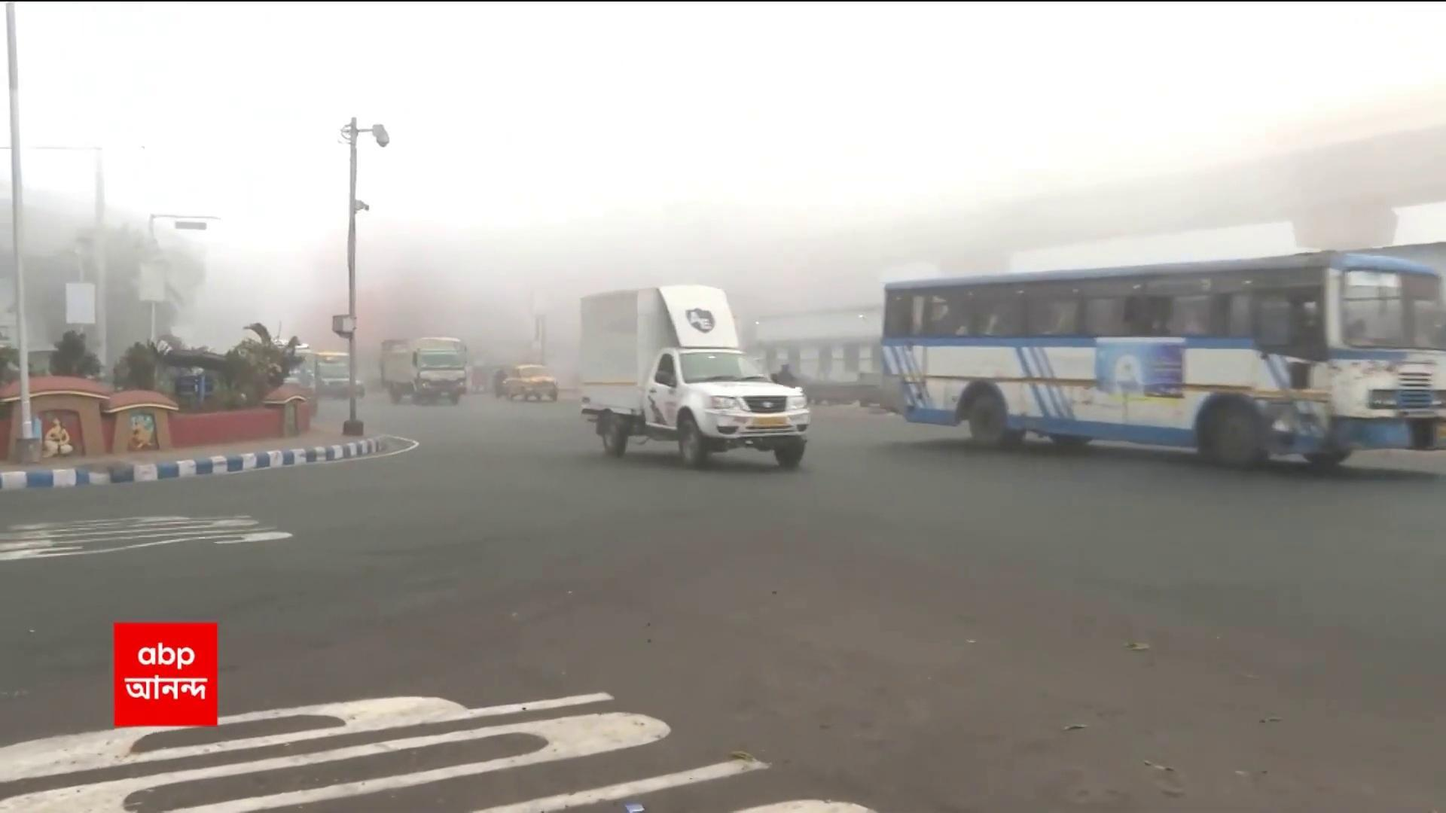Bus: (876, 250, 1446, 466)
Car: (502, 363, 560, 404)
Truck: (575, 280, 814, 473), (381, 335, 469, 405)
